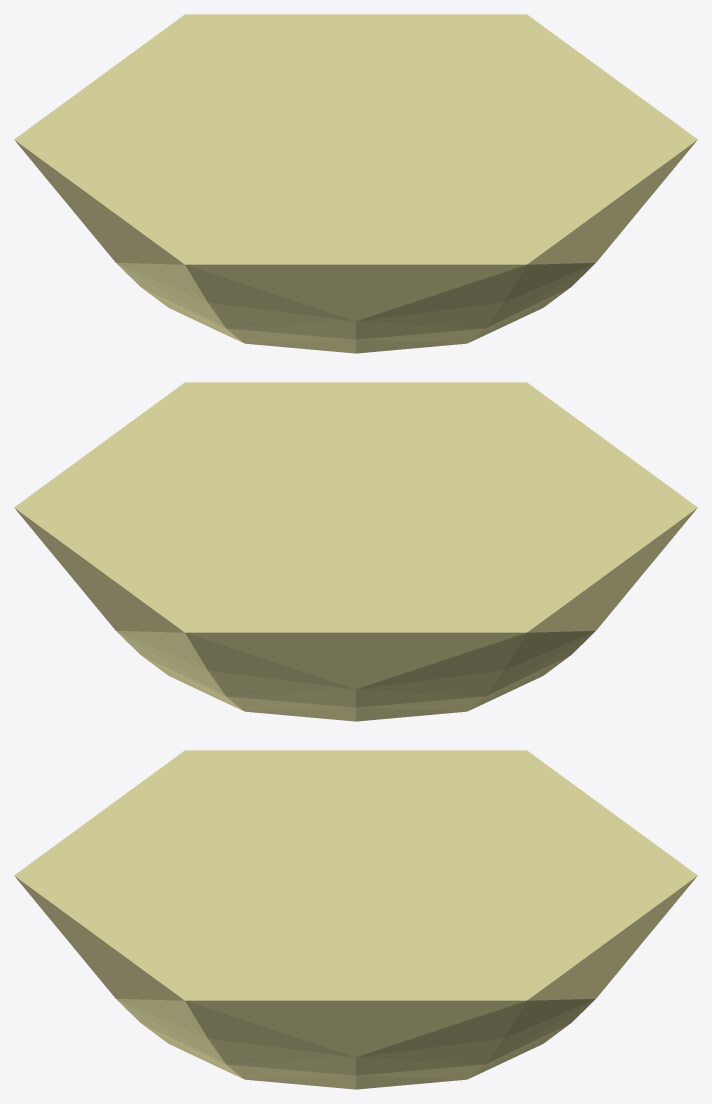
The model's file is lamp-object-only.dae.
3 views of the same model, one above another, from view 1: azimuth 30°, elevation 25°; view 2: azimuth 150°, elevation 25°; view 3: azimuth 270°, elevation 25° (orthographic).
Visible parts, largest first — view 1: Cylinder; view 2: Cylinder; view 3: Cylinder.
Boxes of the visible parts, box(x1,y1,x2,y2) form: Cylinder: box(14, 14, 697, 353); Cylinder: box(14, 382, 697, 721); Cylinder: box(14, 750, 697, 1089).
Bounding box in the file's own units: 0.7967 × 0.92 × 0.182.
